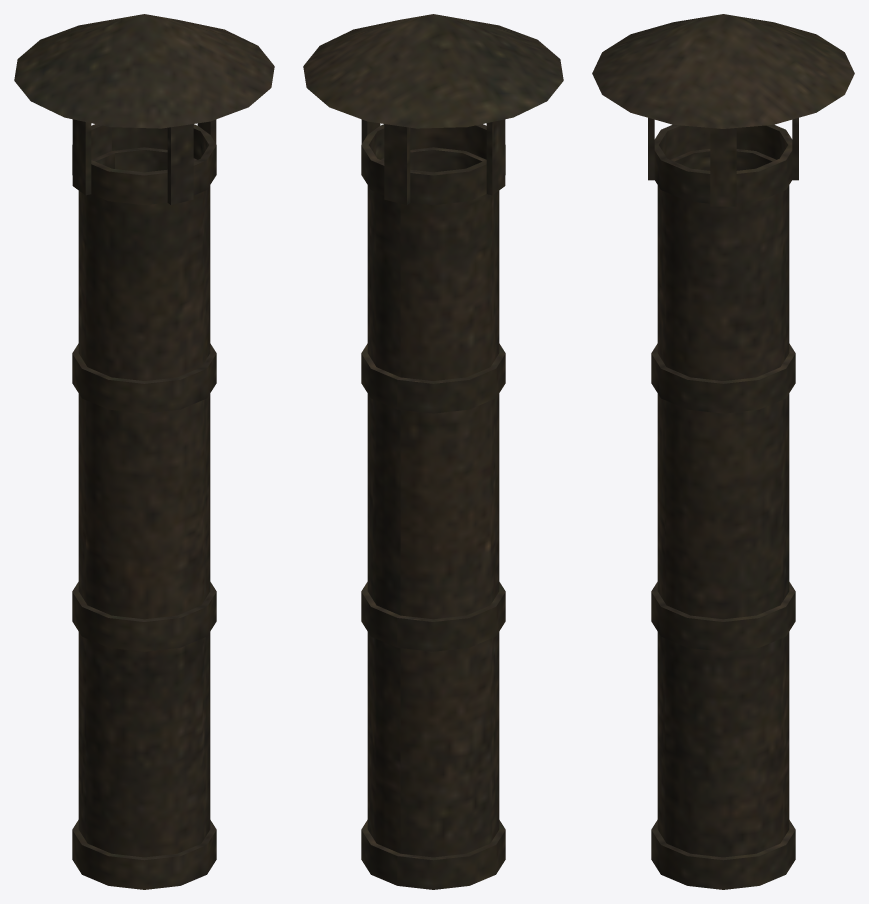
File: chimney_a_2_1.dae
3 renders of one model, left to right at view 1: azimuth 30°, elevation 25°; view 2: azimuth 150°, elevation 25°; view 3: azimuth 270°, elevation 25°, orthographic.
Parts seen in each view (by area): view 1: chimney_a_2_1; view 2: chimney_a_2_1; view 3: chimney_a_2_1.
Boxes of the visible parts, x1,y1,x2,y2 form: chimney_a_2_1: (14, 14, 274, 889); chimney_a_2_1: (303, 14, 563, 889); chimney_a_2_1: (592, 14, 854, 889).
Size of the model in its own units: 0.4 by 0.4 by 1.42.
1 material, 1 textured.
